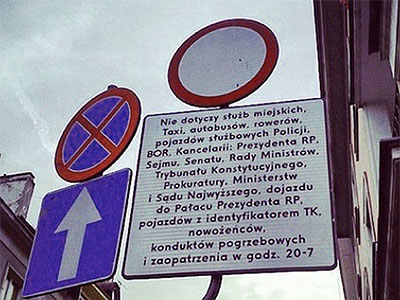no_entry_sign: (166, 18, 280, 106)
